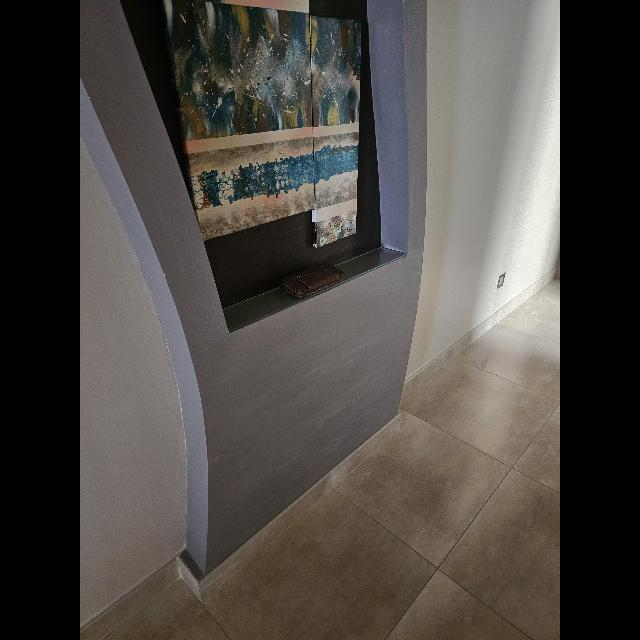Wallet: (282, 262, 346, 300)
